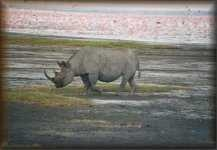rhino: (42, 45, 141, 95)
